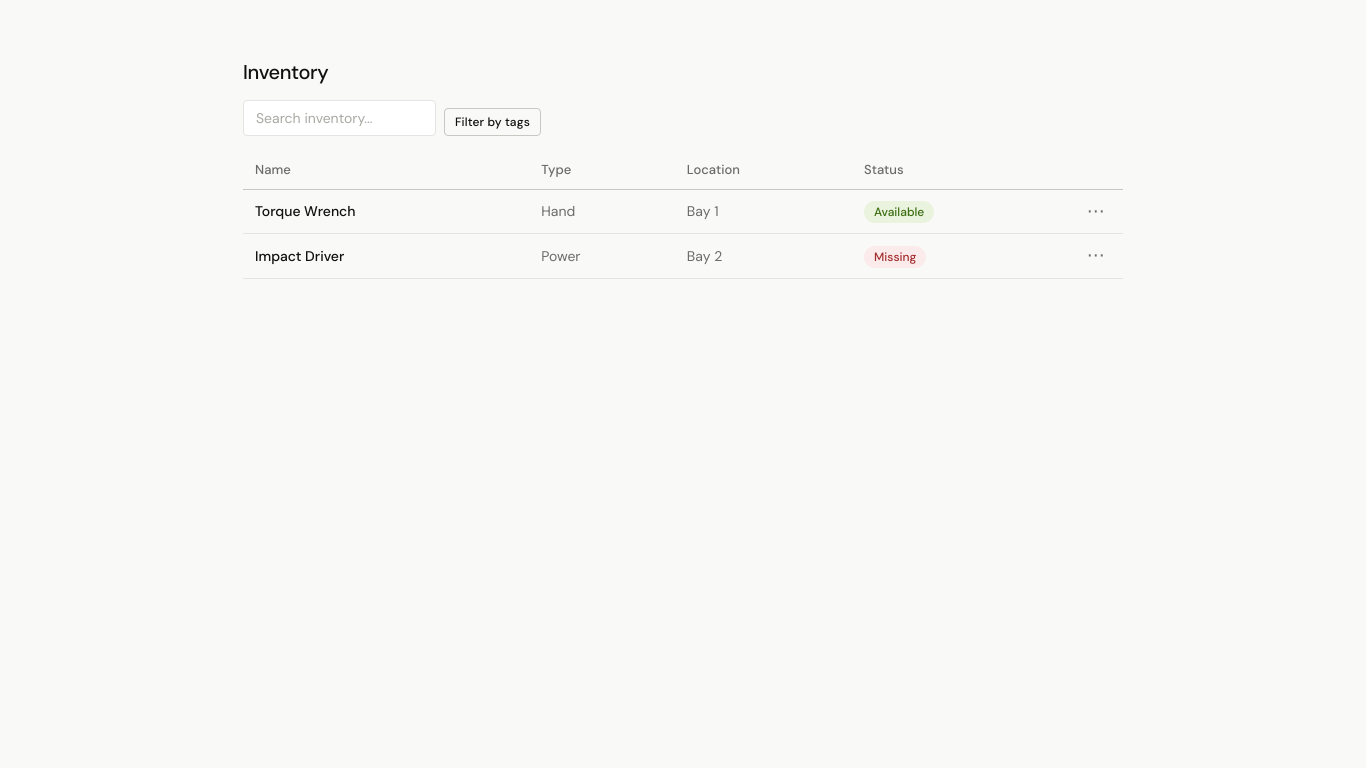
it: InventoryPage — tag filter › closes the dropdown when clicking outside it
Click the button "Filter by tags" at (492, 122), box [444, 108, 541, 136]
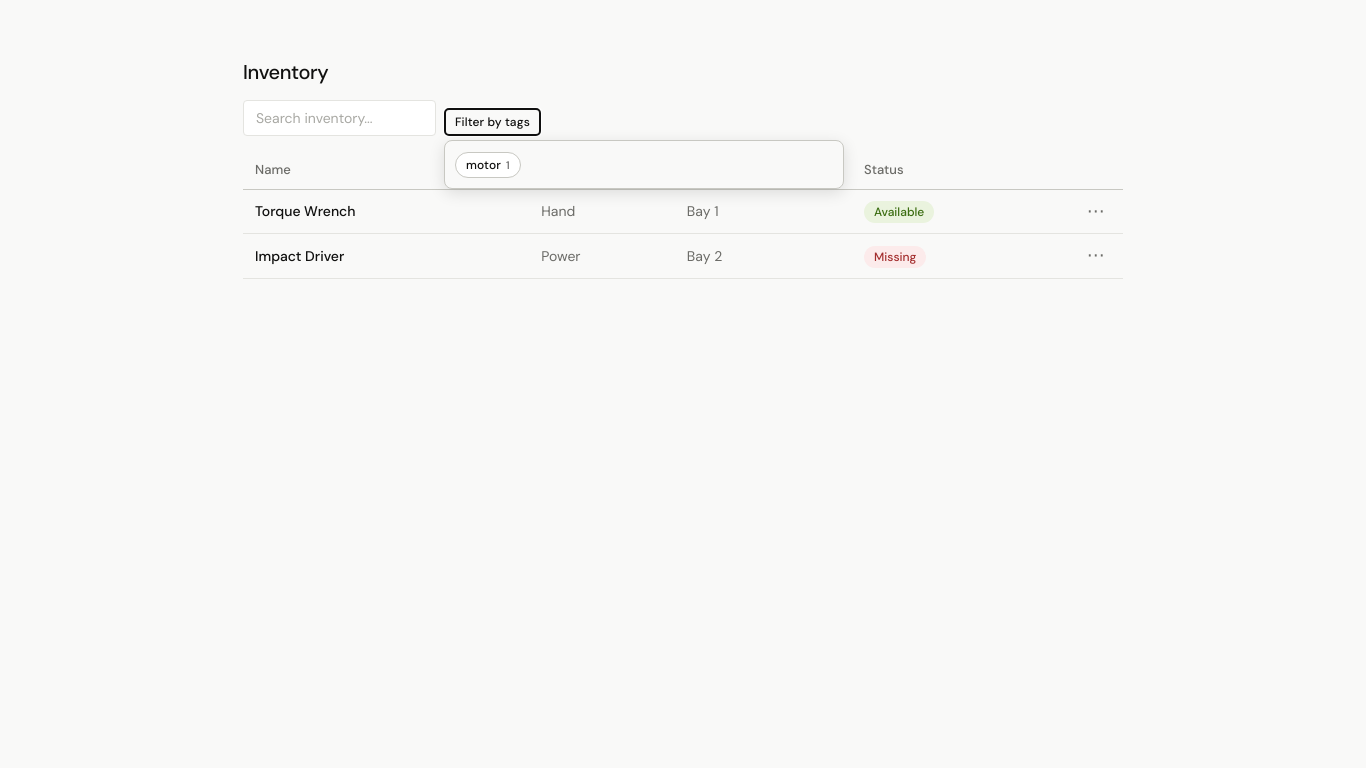
Check: the button "motor1" is shown, box [455, 152, 521, 178]
Click the element that starts with "Inventory" at (683, 384), box [0, 0, 1365, 767]
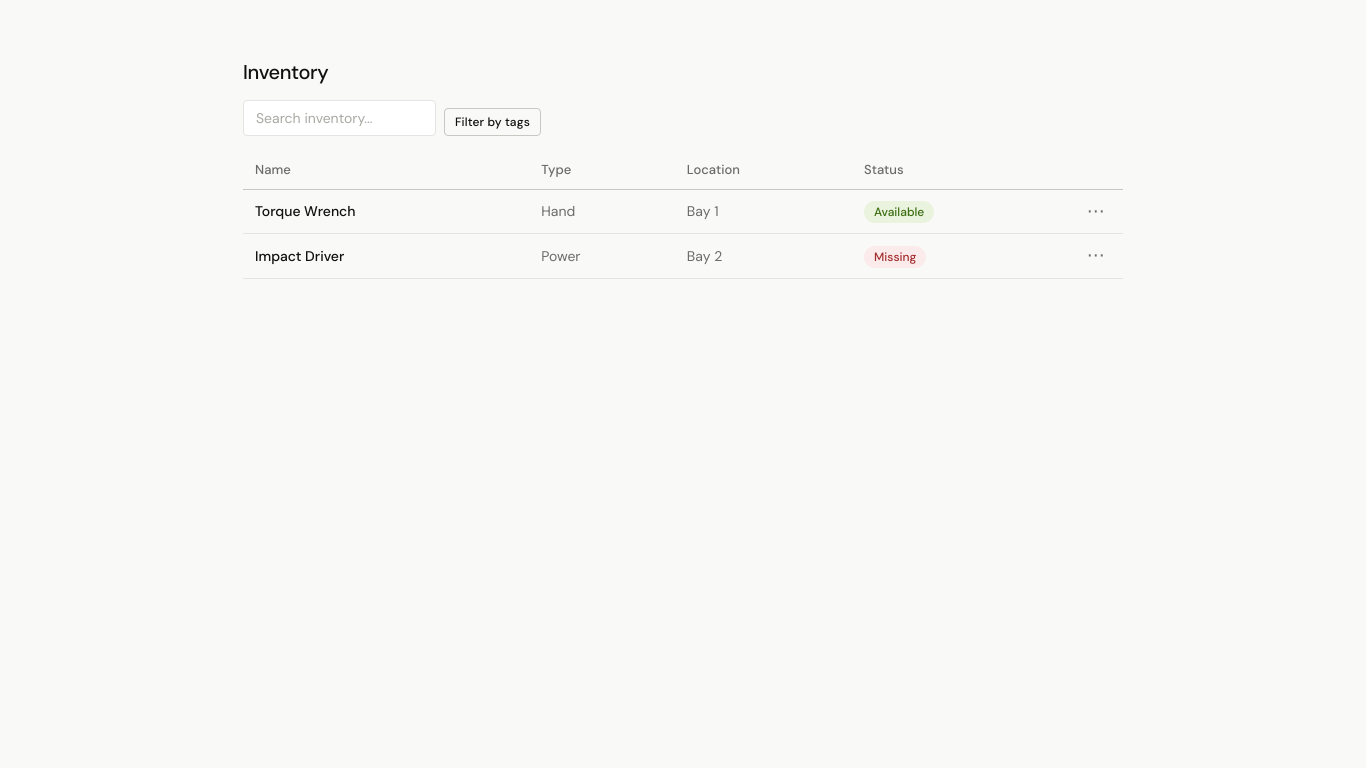
Check: the button "motor" is gone
